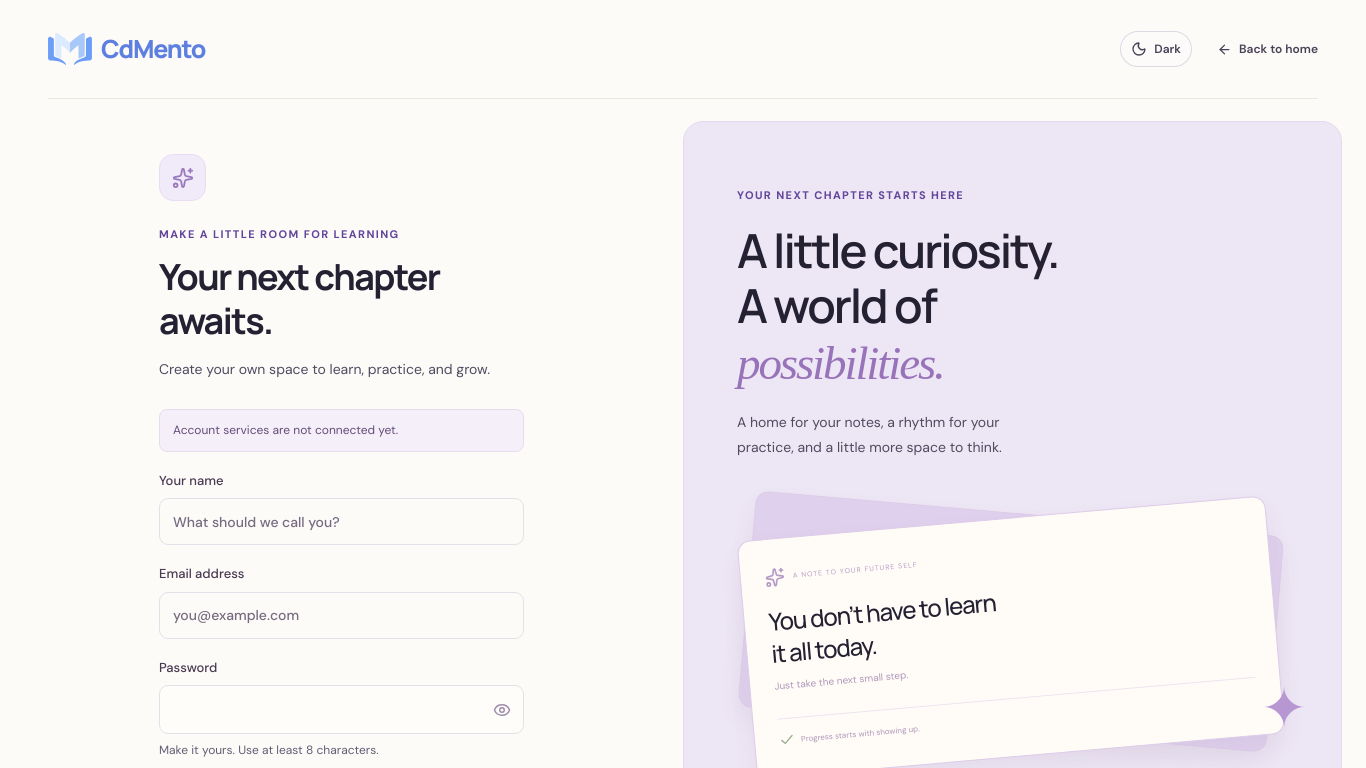
Scenario: public site and authentication › validates signup passwords before making an account request
Type "Test Learner" into the field labelled "Your name" at coordinates (342, 522), box [159,498,524,546]
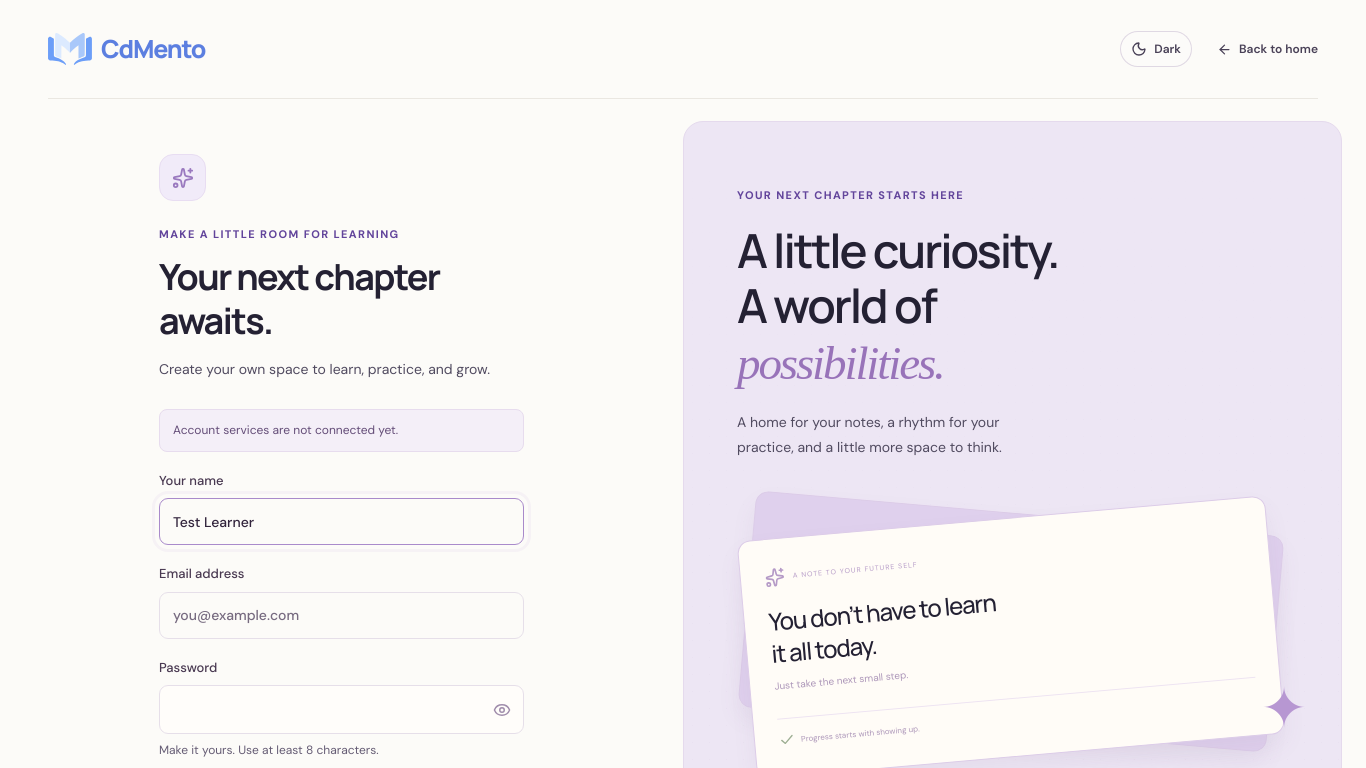
Type "learner@example.com" into the field labelled "Email address" at coordinates (342, 616), box [159,592,524,639]
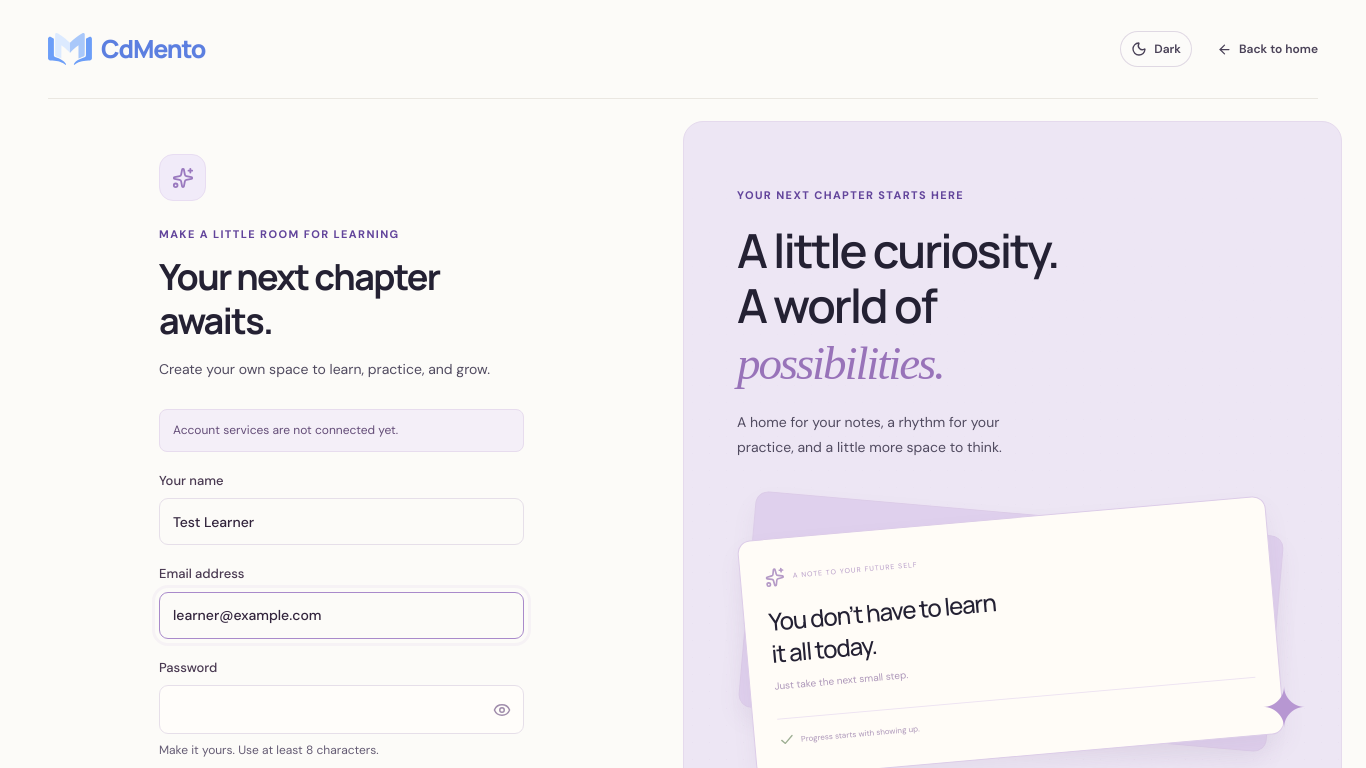
Type "short" into the password field labelled "Password" at coordinates (320, 710), box [160,686,481,734]
(page scrolled)
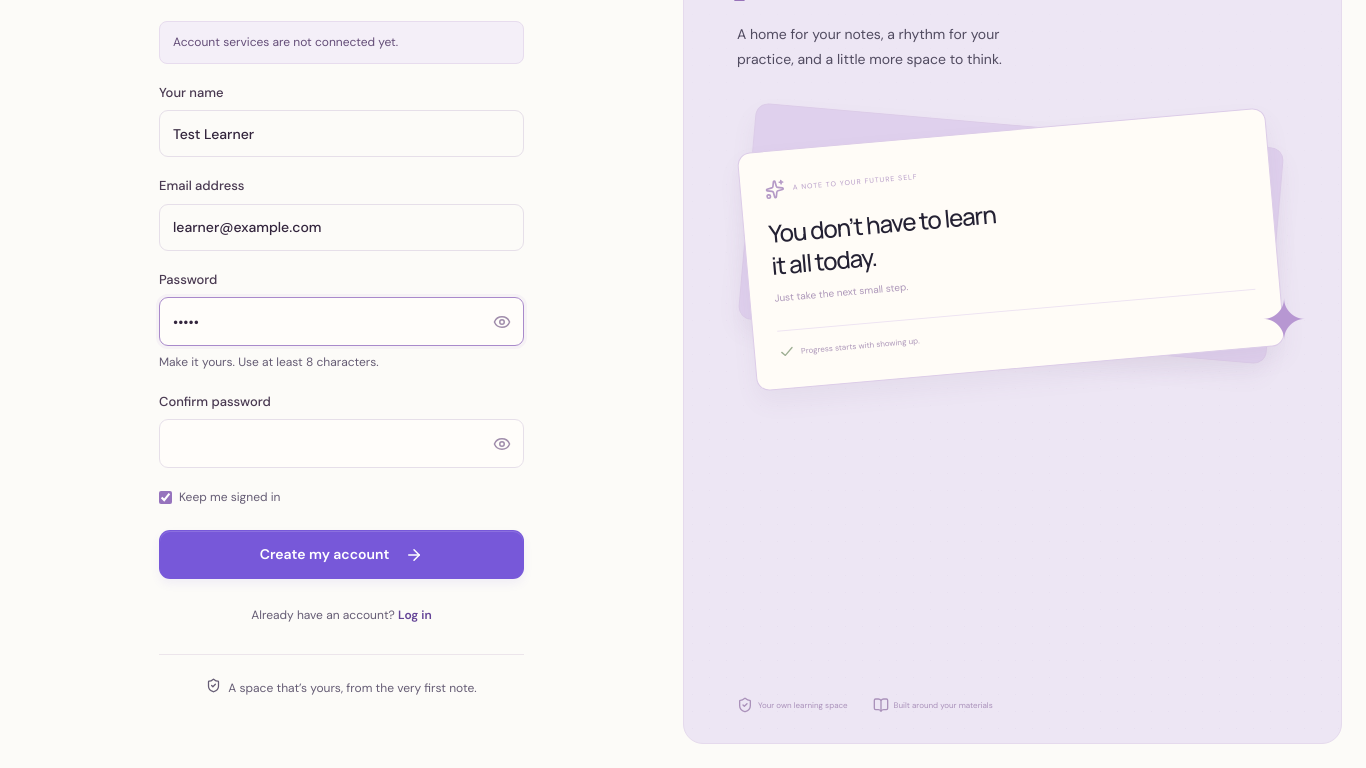
Type "different" into the password field labelled "Confirm password" at coordinates (320, 444), box [160,420,481,467]
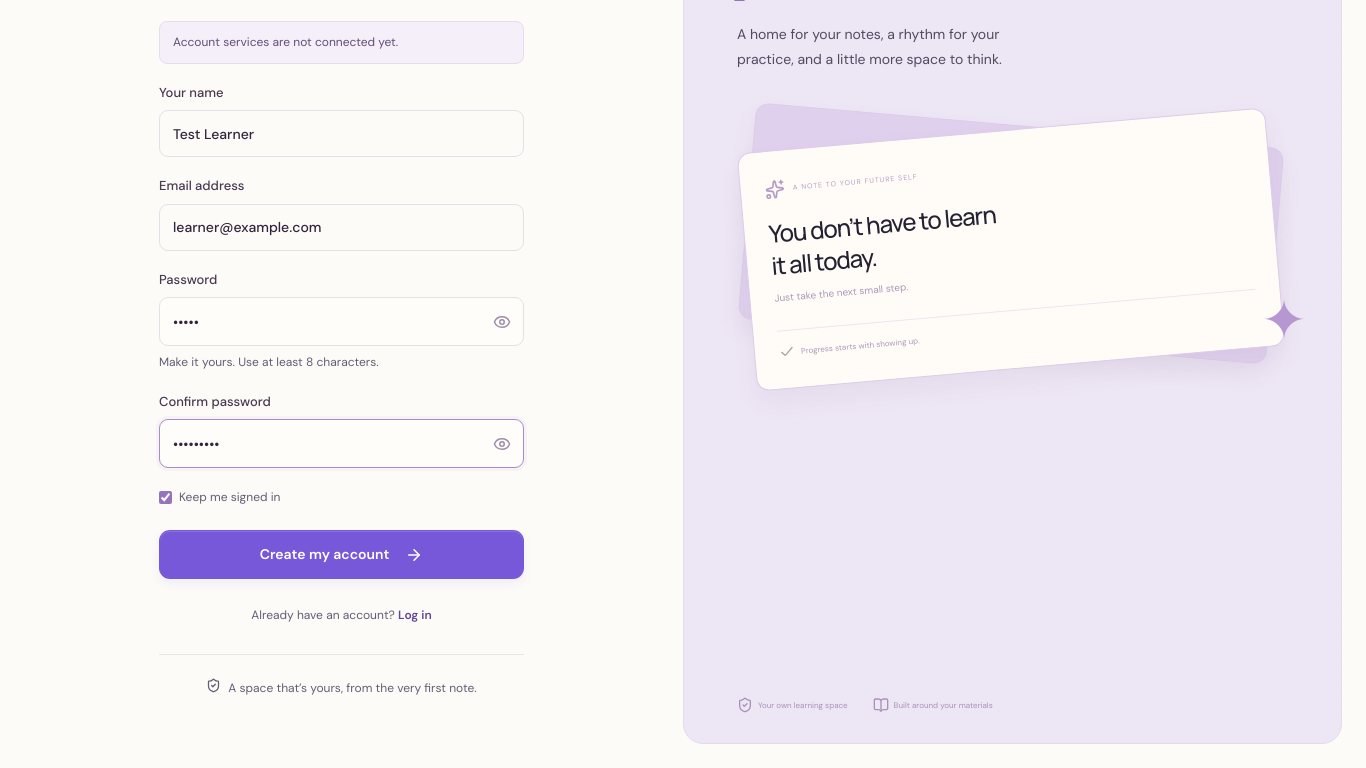
Click the button "Create my account" at coordinates (342, 555), box [159,530,524,579]
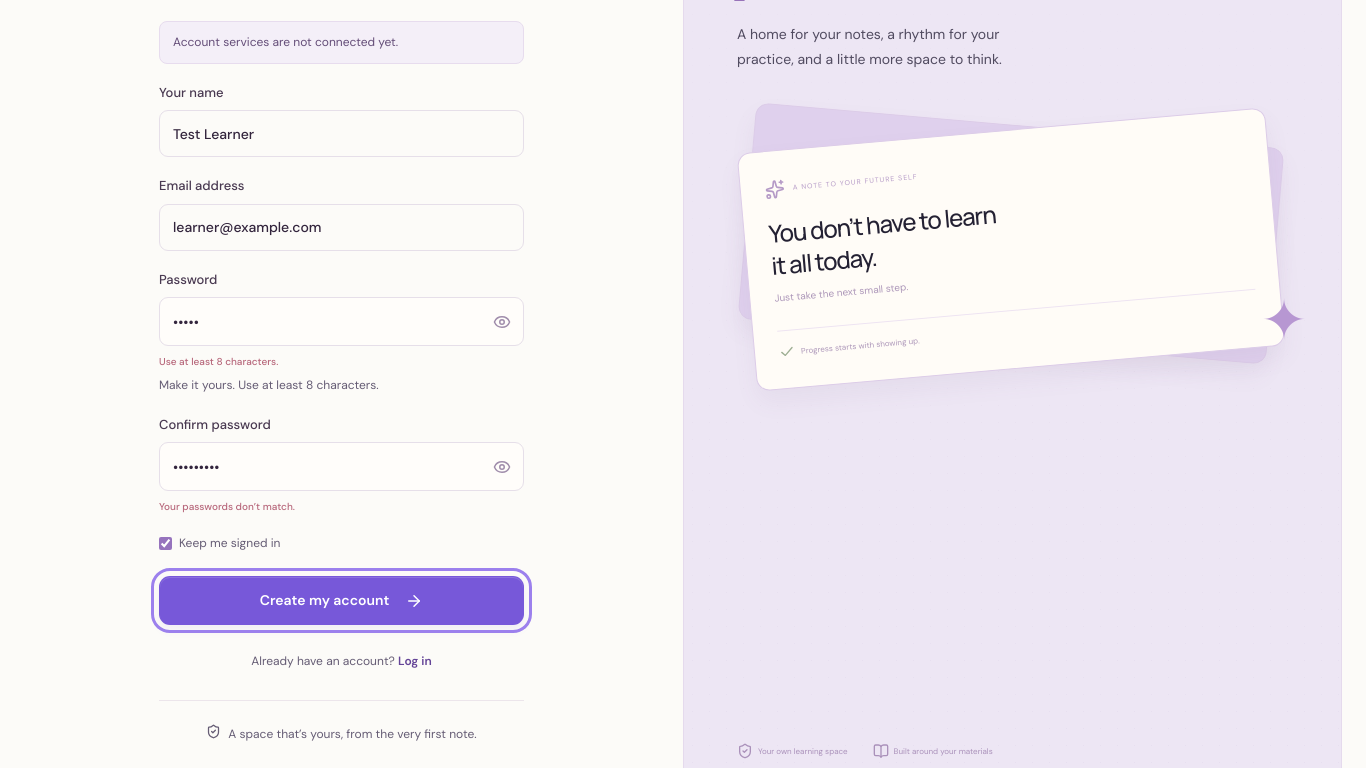
Result: the text "Use at least 8 characters." is shown at [159,356,278,368]
Result: the text "Your passwords don’t match." is shown at [159,500,295,513]
